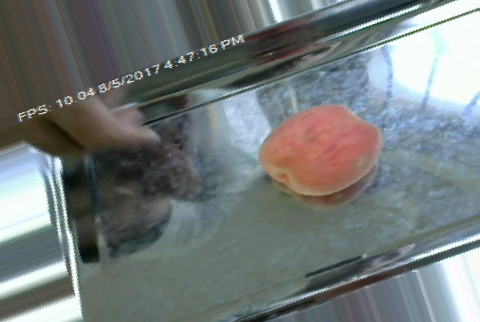Peach: (260, 103, 379, 195)
